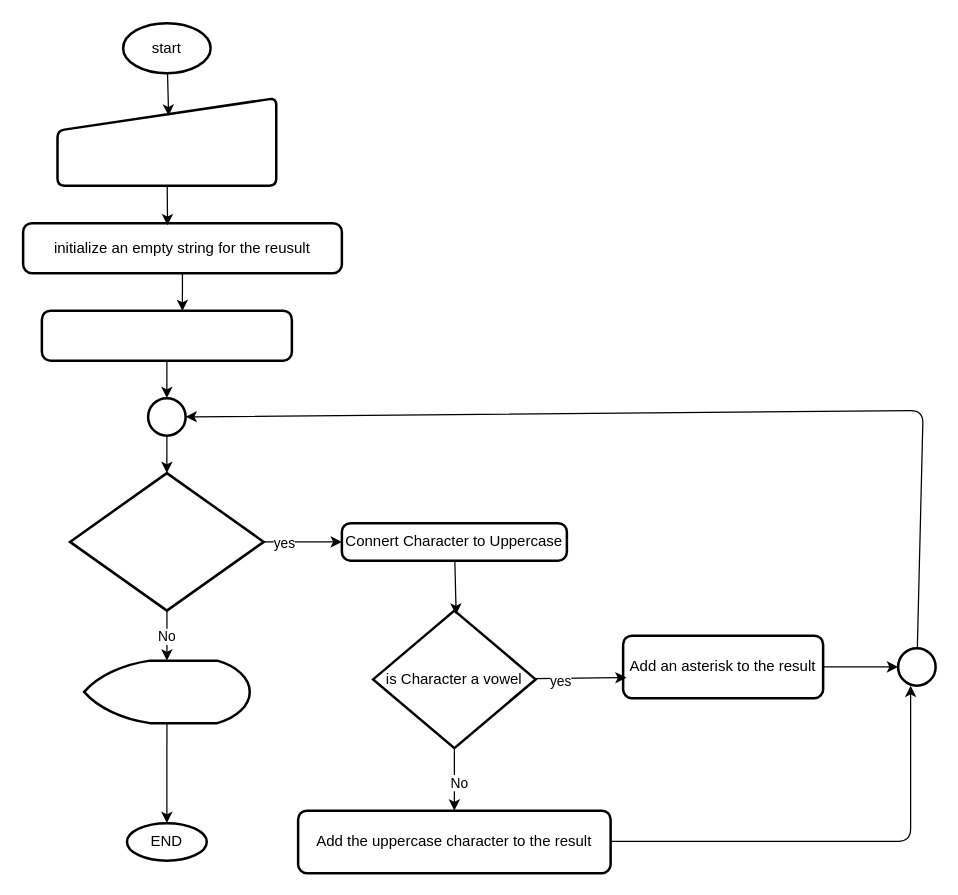
Some shapes in this 958 by 895 pixel diagram are drawn without their labels. Each missing label, with the centre of its shape:
Define vowel as "aeiouAEIOU": pixel 166 335
More Characters in string?: pixel 166 541
print the modified string: pixel 166 691
Read input string from the user: pixel 166 141
